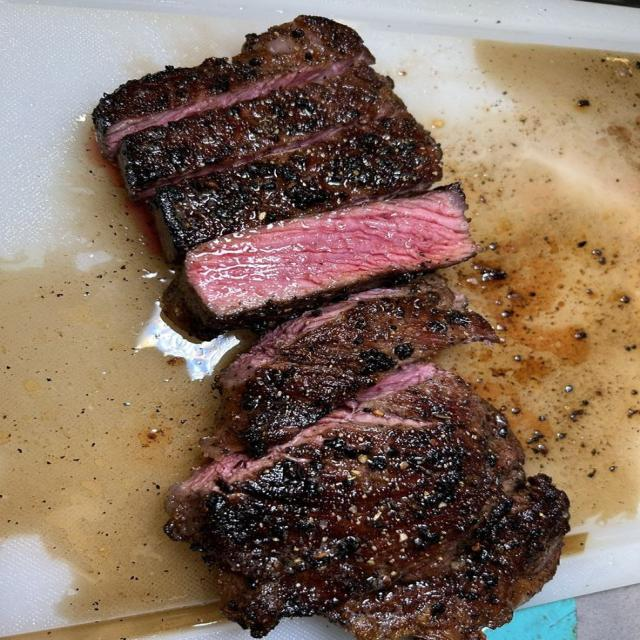beef steak: (166, 364, 568, 639), (203, 275, 497, 457), (162, 185, 476, 337), (148, 117, 441, 261), (93, 16, 374, 159), (119, 65, 405, 198)
